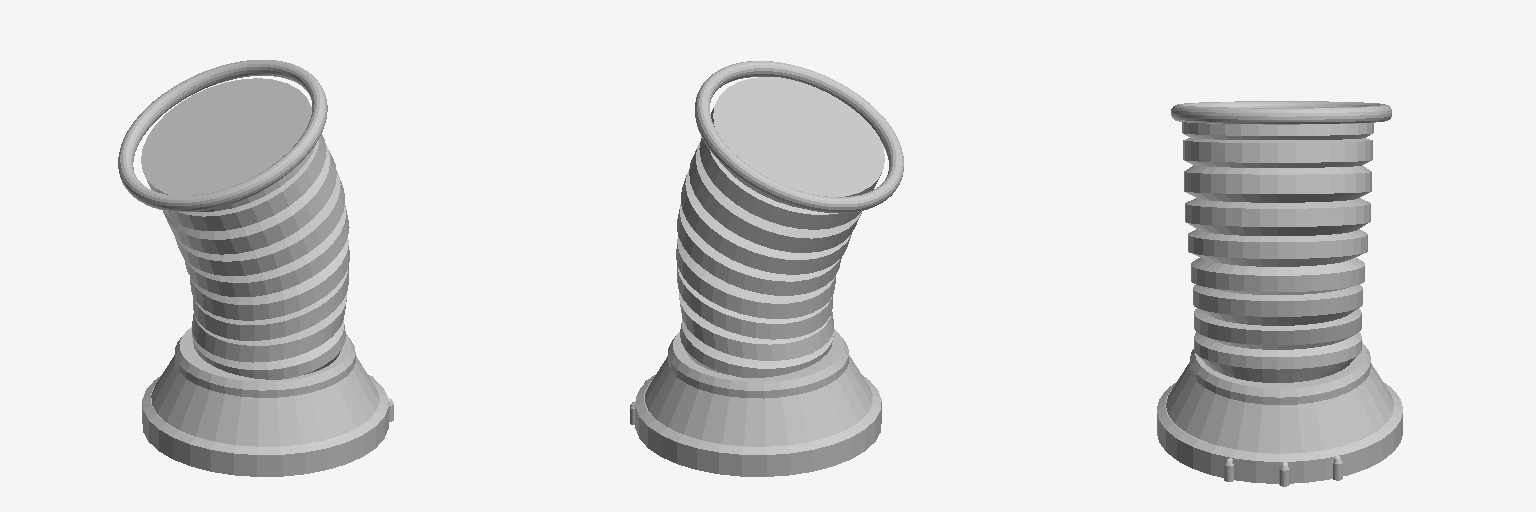
File: pata_trasera.obj
3 views of the same model, side by side, from view 1: azimuth 30°, elevation 25°; view 2: azimuth 150°, elevation 25°; view 3: azimuth 270°, elevation 25° (orthographic).
Parts seen in each view (by area): view 1: C_rculo_004; view 2: C_rculo_004; view 3: C_rculo_004.
Part boxes in pixels (left/top/right/bottom): C_rculo_004: left=118, top=60, right=393, bottom=476; C_rculo_004: left=630, top=61, right=903, bottom=476; C_rculo_004: left=1157, top=101, right=1402, bottom=486.
Bounding box in the file's own units: 1.17 × 1.58 × 1.03.